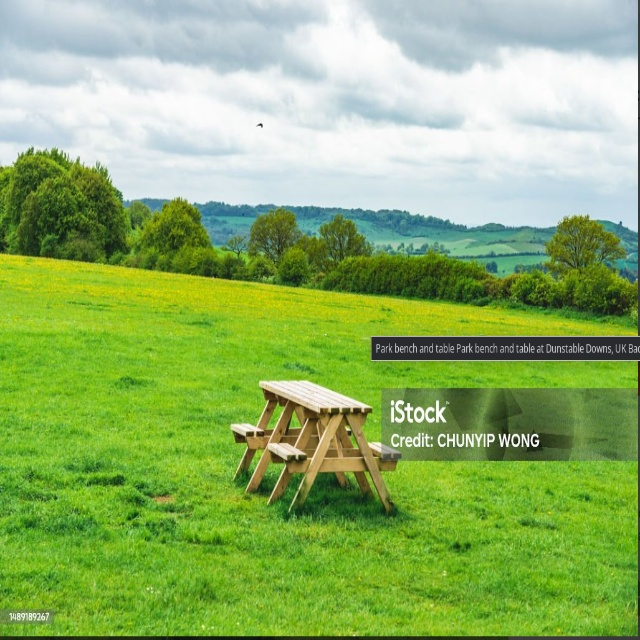obstacle: (231, 377, 400, 522)
